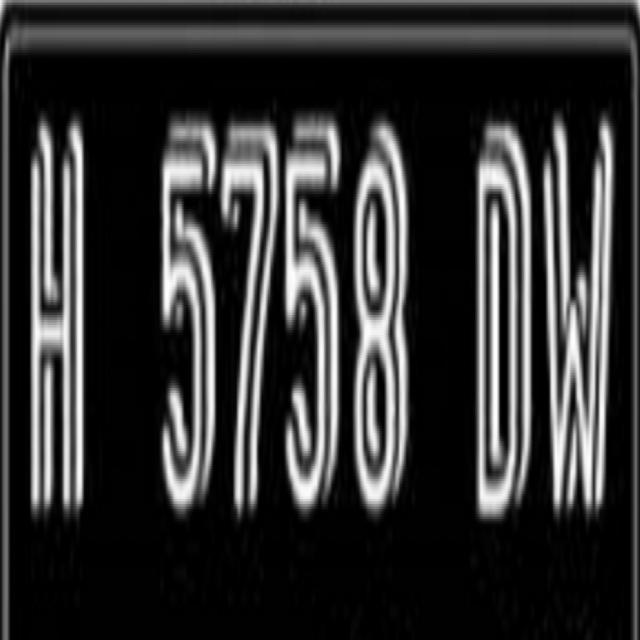5: (140, 138, 214, 522), (280, 143, 342, 526)
7: (213, 155, 275, 526)
8: (340, 120, 404, 544)
D: (476, 130, 538, 550)
H: (15, 110, 96, 526)
W: (536, 105, 630, 538)
